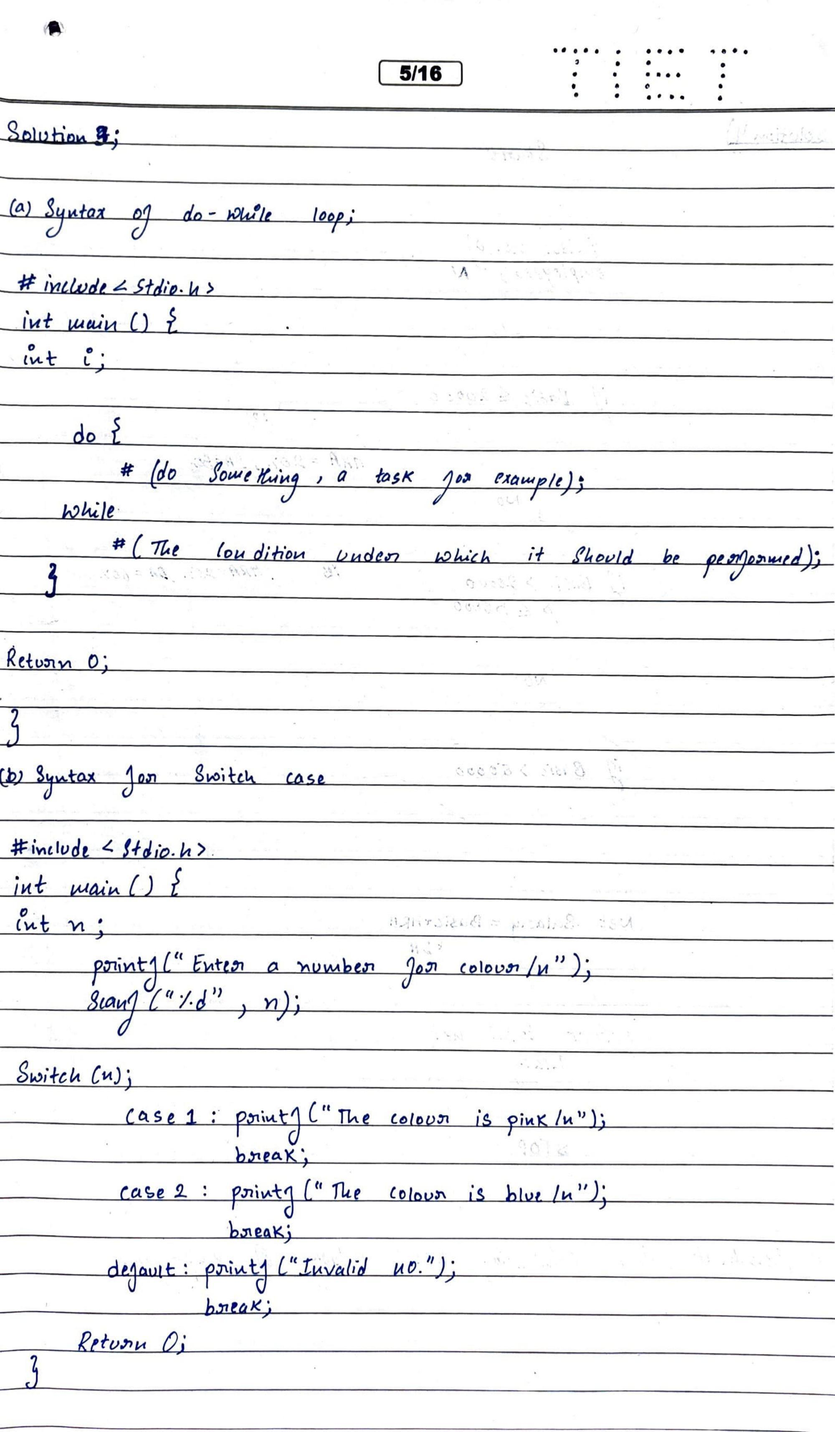cuttings: (91, 123, 114, 149)
